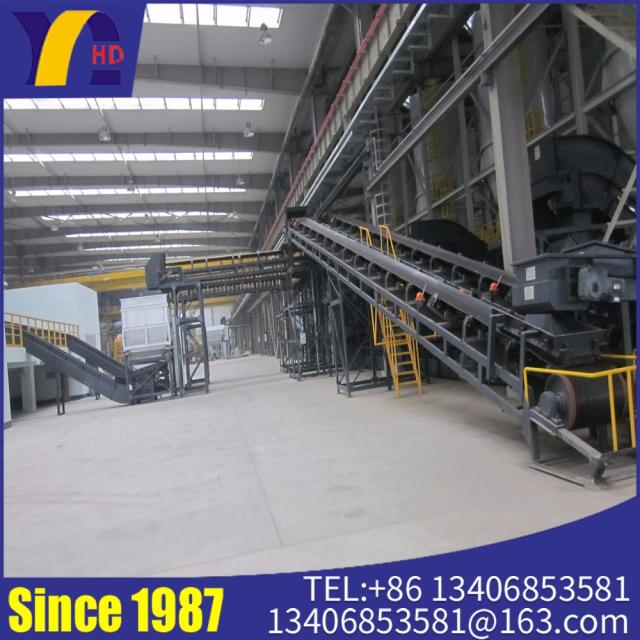conveyor: (195, 133, 640, 491)
